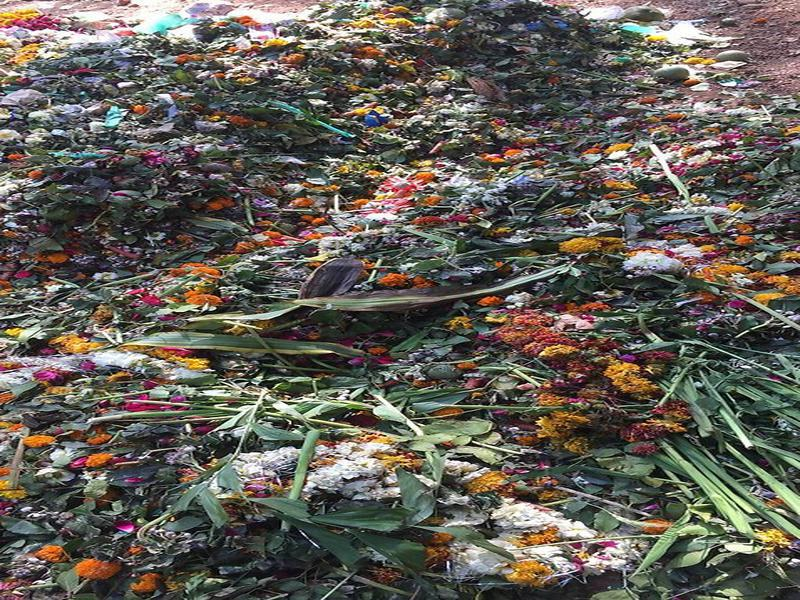flowers: (1, 2, 800, 253), (1, 324, 207, 599), (456, 297, 698, 470), (451, 495, 647, 592), (551, 222, 800, 298), (219, 439, 412, 502), (120, 254, 236, 319)
leaf: (248, 471, 454, 584)
